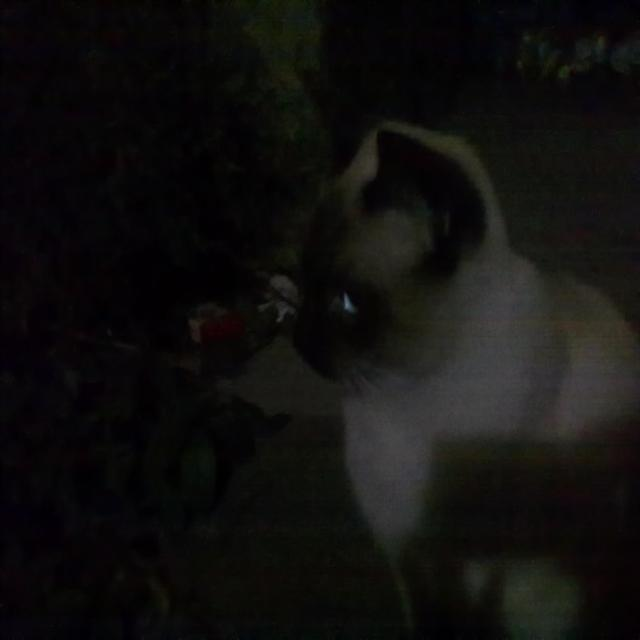Cat: (289, 60, 626, 640)
